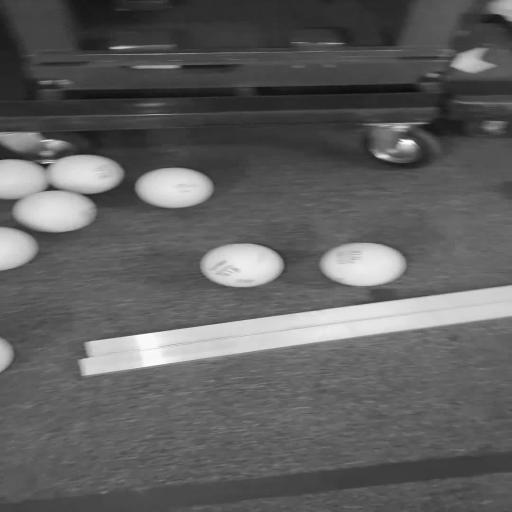fuel: (320, 243, 406, 286), (12, 190, 97, 233), (201, 243, 284, 287), (135, 168, 213, 208), (47, 154, 124, 194), (0, 159, 49, 200), (0, 227, 38, 271), (0, 132, 43, 153)
